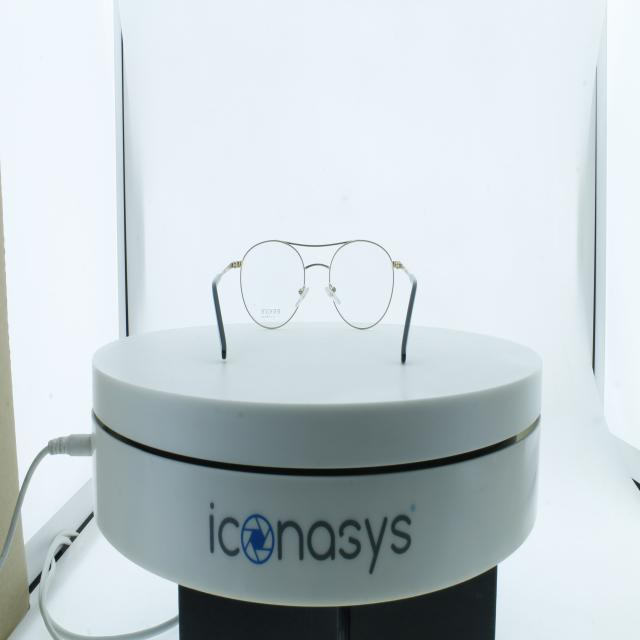Specs: (194, 218, 428, 375)
